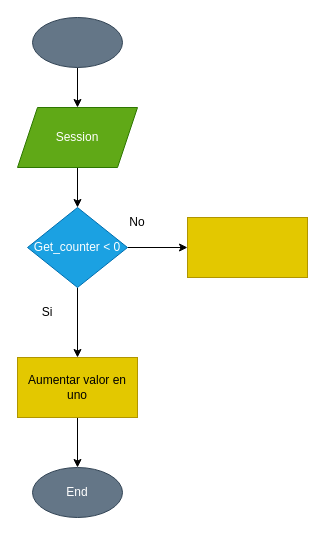
Image size: 325x535. Some labels were removed from this diagram. The box of each missing label's shape, as (x1, y1, x2, y2) in pixels:
Disminuya el valor en uno: (186, 216, 308, 278)
Start: (32, 16, 122, 68)
